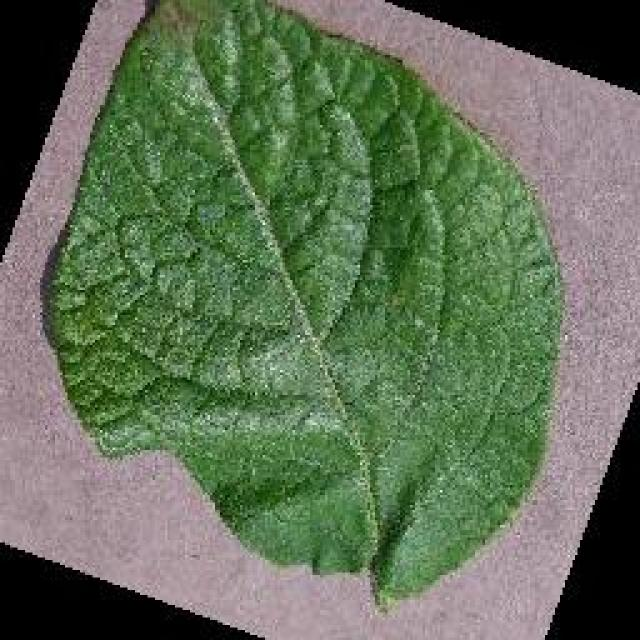Potato___healthy: (48, 0, 562, 613)
